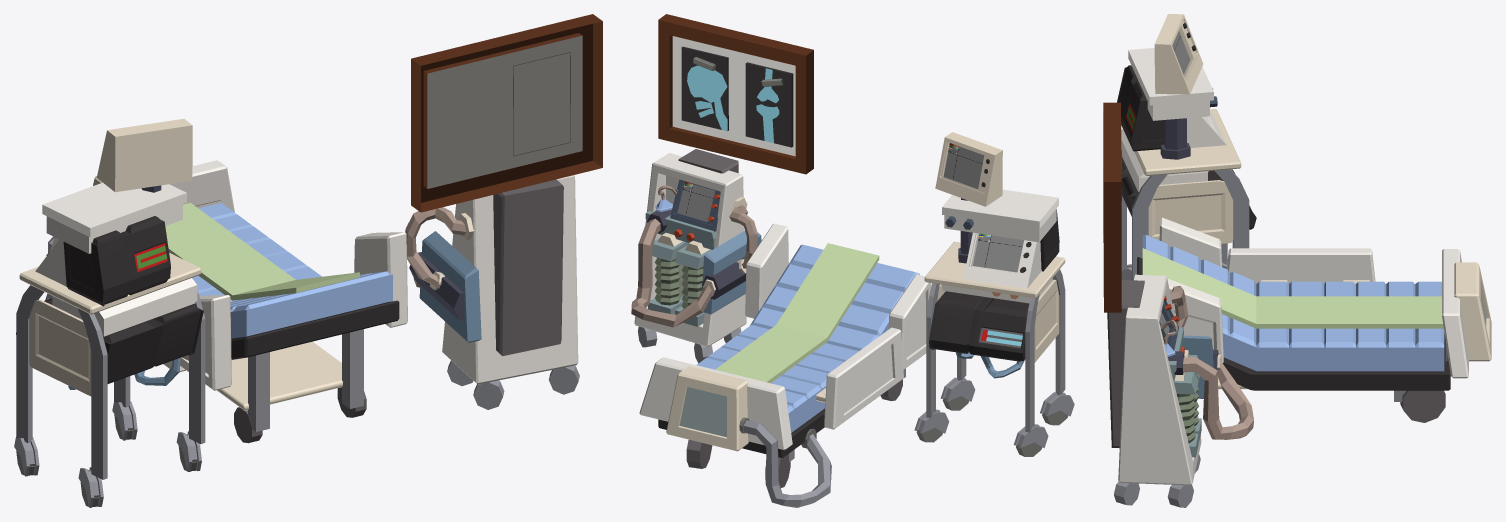
File: g_o_TraumaMedicalStation.fbx
3 views of the same model, side by side, from view 1: azimuth 30°, elevation 25°; view 2: azimuth 150°, elevation 25°; view 3: azimuth 270°, elevation 25° (orthographic). The views are drawn at different scales.
Visible parts, largest first — view 1: ma, bed, xray, breathingmachine; view 2: bed, ma, breathingmachine, xray; view 3: bed, ma, breathingmachine, xray.
Part boxes in pixels (box(x1,y1,x2,y2)): ma: box(14, 118, 205, 507); bed: box(45, 160, 407, 443); xray: box(411, 14, 602, 212); breathingmachine: box(405, 175, 579, 409); bed: box(639, 223, 930, 507); ma: box(914, 132, 1074, 456); breathingmachine: box(631, 149, 761, 363); xray: box(658, 14, 813, 174); bed: box(1137, 217, 1491, 422); ma: box(1117, 14, 1256, 280); breathingmachine: box(1107, 274, 1253, 507); xray: box(1103, 102, 1121, 312).
Size of the model in its own units: 277 by 189 by 199.
